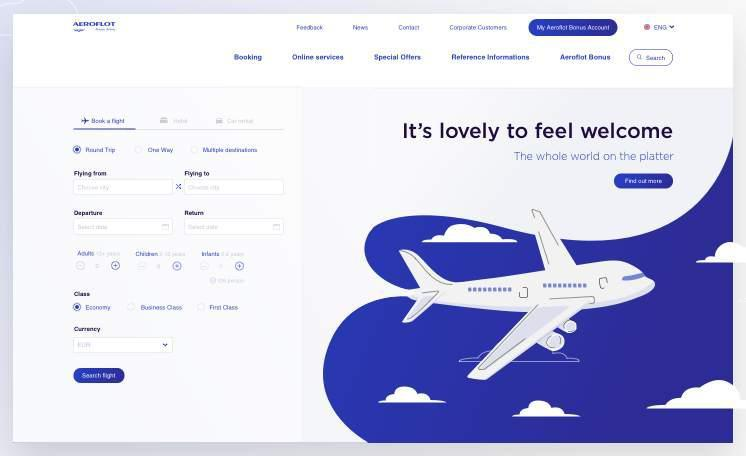button: (530, 20, 618, 38), (615, 173, 674, 190), (74, 369, 126, 385)
dropdown: (74, 338, 174, 354), (643, 22, 679, 34)
icon: (161, 224, 171, 233), (273, 225, 282, 233)
input: (185, 180, 285, 197), (185, 219, 285, 236), (74, 180, 174, 196), (74, 220, 174, 236), (630, 50, 674, 67)
label: (452, 53, 531, 62), (449, 23, 509, 33), (292, 53, 345, 63), (560, 54, 612, 63), (204, 147, 259, 155), (73, 20, 117, 29), (375, 54, 422, 62), (82, 118, 126, 126), (139, 305, 186, 312), (217, 118, 255, 126), (295, 23, 325, 33), (86, 146, 117, 155), (234, 54, 264, 63), (159, 117, 189, 126), (74, 171, 109, 178), (74, 326, 104, 334), (148, 147, 175, 155), (184, 171, 211, 179), (84, 305, 114, 312), (210, 305, 240, 312), (76, 249, 97, 259), (398, 24, 421, 33), (135, 251, 161, 258), (74, 211, 104, 217), (202, 250, 221, 258), (185, 210, 205, 217), (353, 25, 370, 33), (73, 291, 91, 298)
radio: (73, 145, 83, 156), (128, 303, 138, 314), (197, 303, 208, 313), (134, 146, 144, 155), (191, 146, 200, 156), (73, 303, 82, 313)
